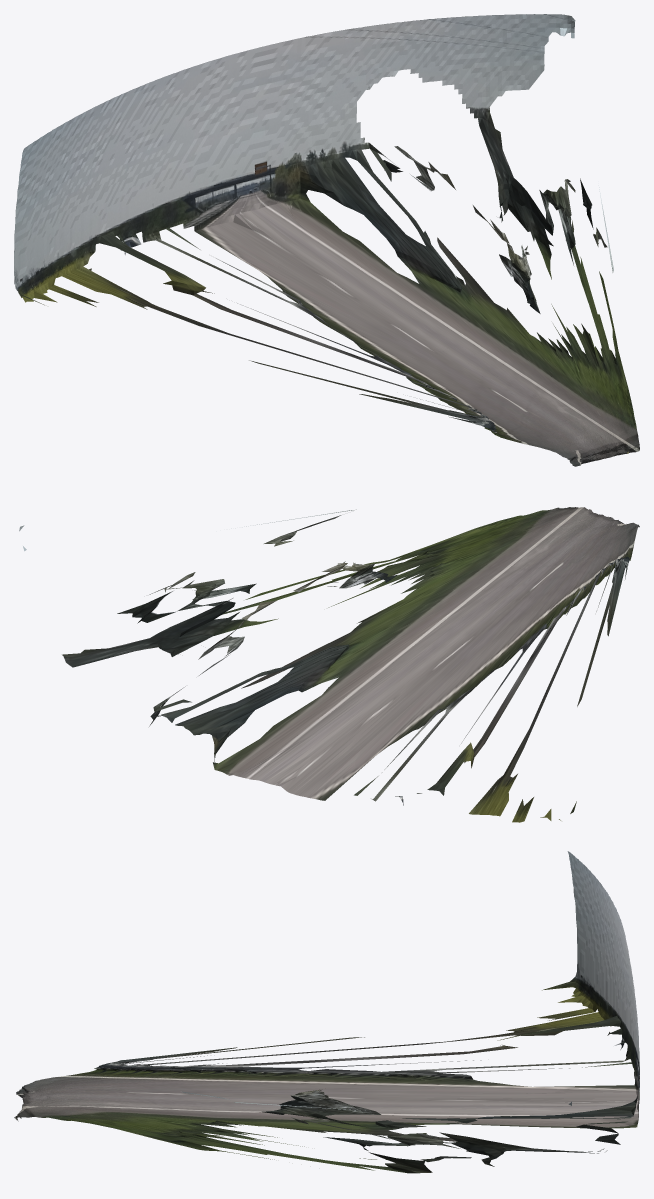
The picture shows the model from 3 angles, top to bottom: view 1: azimuth 30°, elevation 25°; view 2: azimuth 150°, elevation 25°; view 3: azimuth 270°, elevation 25°; orthographic projection. The views are drawn at different scales.
Visible parts, largest first — view 1: defaultobject; view 2: defaultobject; view 3: defaultobject.
Part boxes in pixels (x1,y1,x2,y2): defaultobject: [14, 14, 639, 466]; defaultobject: [19, 507, 639, 822]; defaultobject: [14, 851, 639, 1173].
Size of the model in its own units: 40.91 by 12.33 by 44.61.
1 material, 1 textured.
